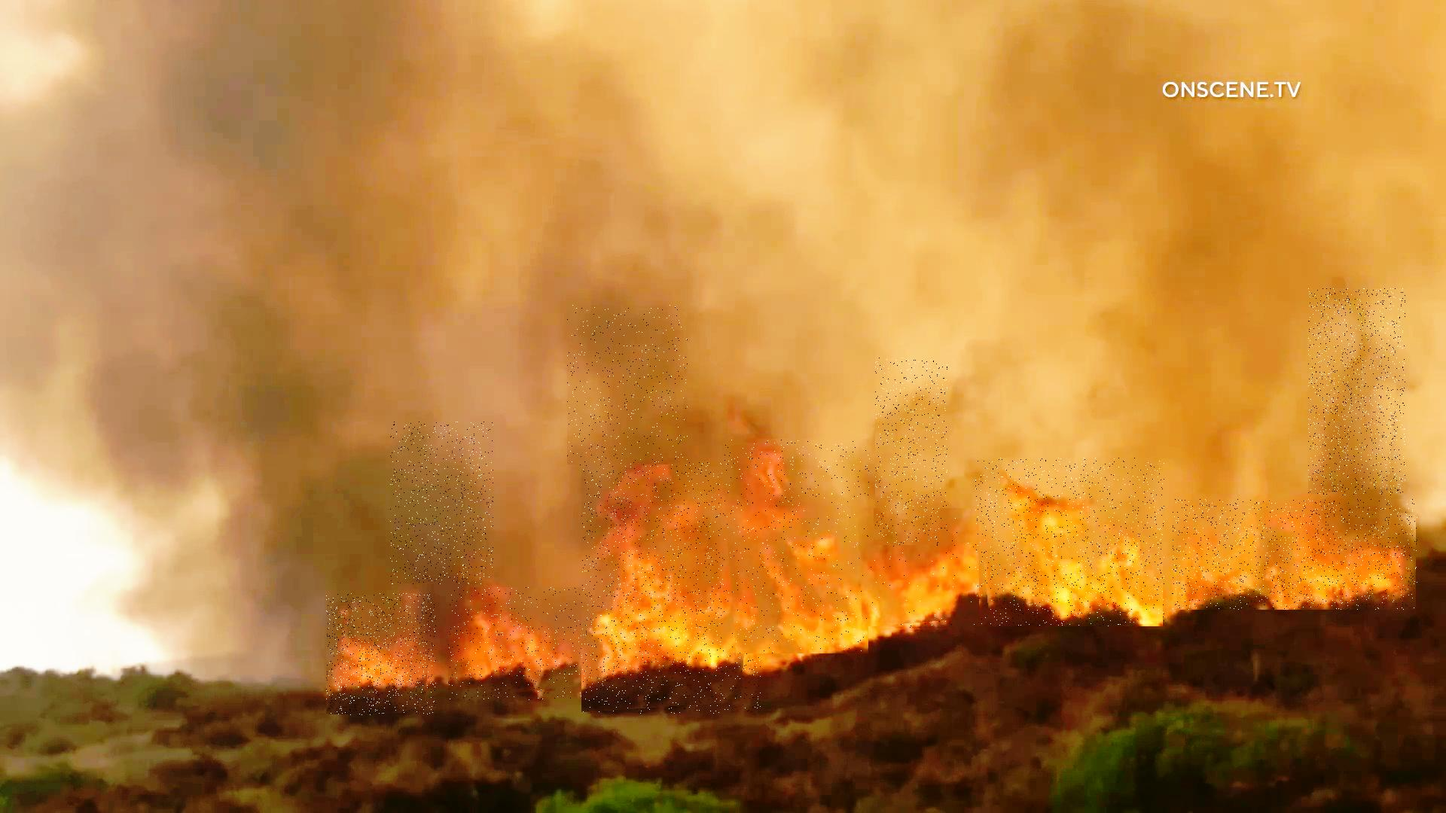fire: (582, 462, 761, 714), (722, 439, 870, 654), (976, 458, 1165, 626), (1173, 499, 1418, 610), (448, 587, 591, 700), (859, 509, 981, 629), (326, 593, 436, 715)
smoke: (1309, 288, 1406, 496), (567, 306, 688, 467), (390, 422, 493, 584), (876, 358, 948, 545)
